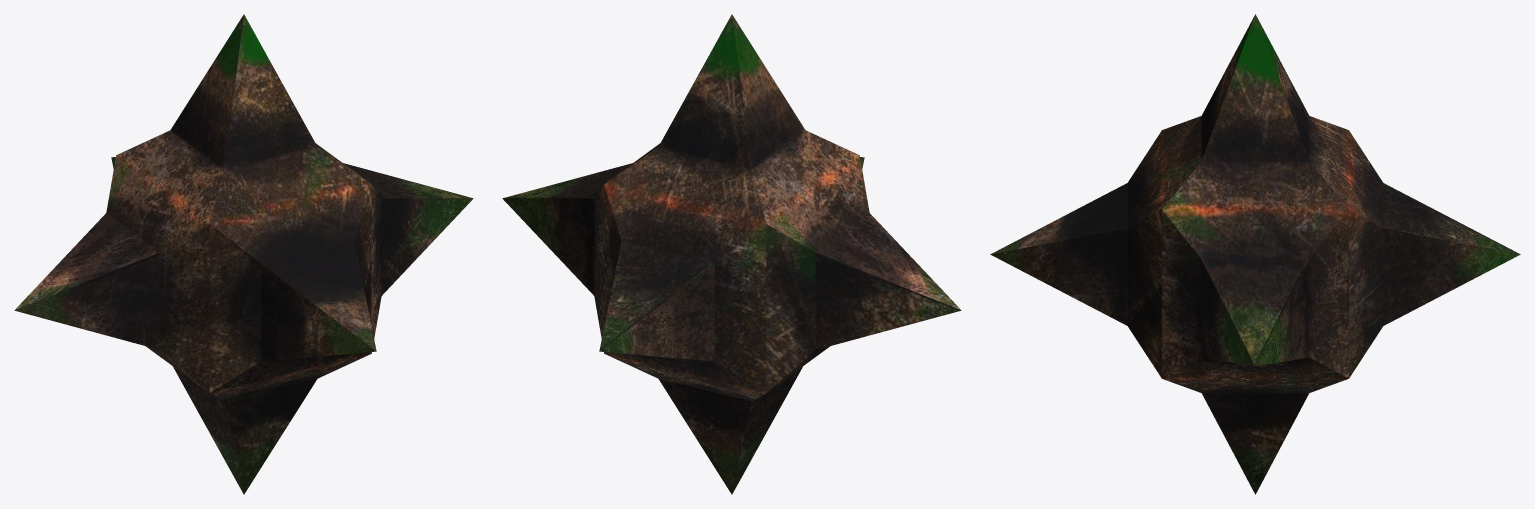
Rendered from cajitaconpinchos1.fbx.
The picture shows the model from 3 angles, left to right: view 1: azimuth 30°, elevation 25°; view 2: azimuth 150°, elevation 25°; view 3: azimuth 270°, elevation 25°; orthographic projection.
Visible parts, largest first — view 1: CajitaPinchos; view 2: CajitaPinchos; view 3: CajitaPinchos.
Part boxes in pixels (<box>): CajitaPinchos: <box>14,14,473,494</box>; CajitaPinchos: <box>502,14,961,494</box>; CajitaPinchos: <box>990,14,1520,494</box>.
Size of the model in its own units: 567 by 567 by 567.
1 material, 1 textured.
